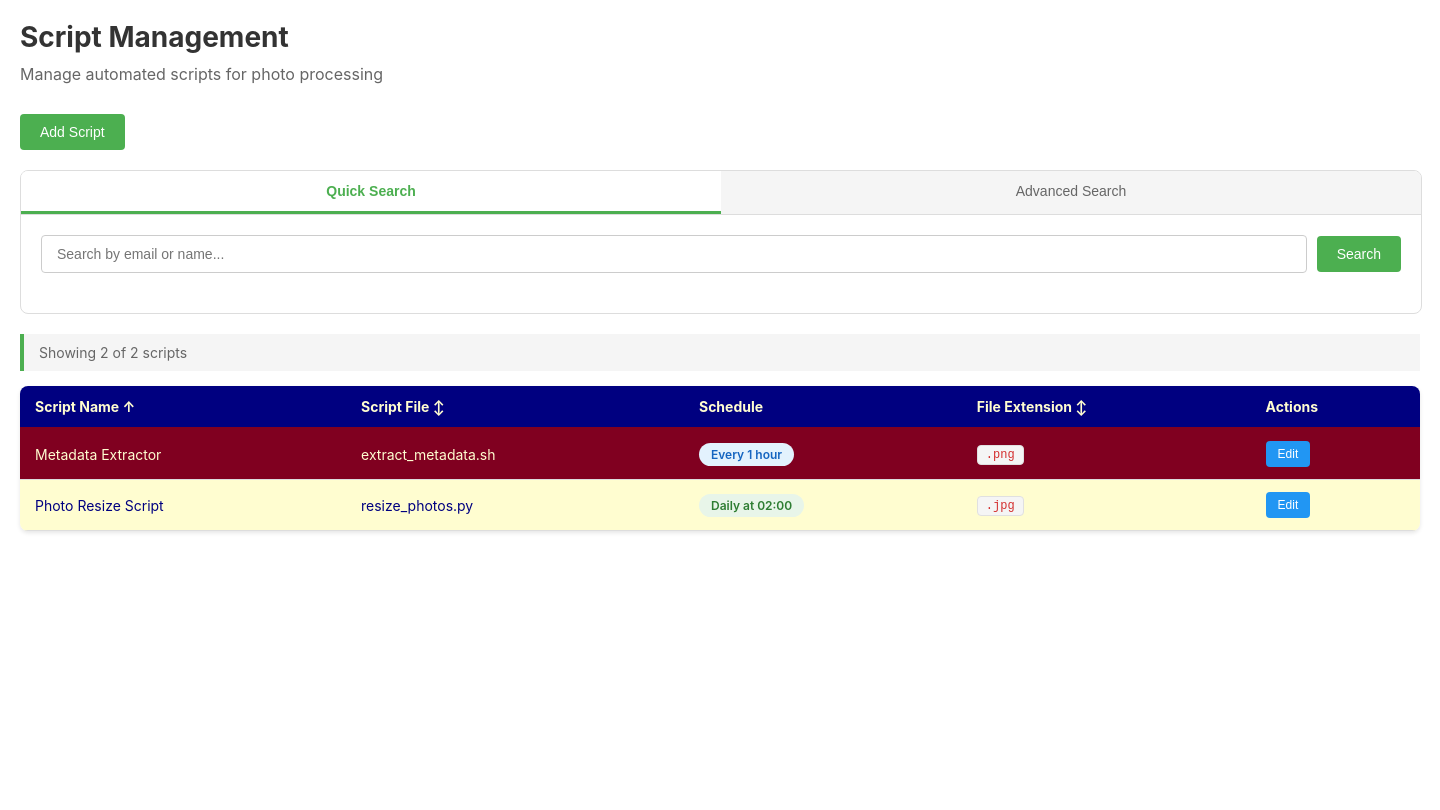
Scenario: Scripts Page › opens dialog when Add Script button clicked
Expected: the text "Photo Resize Script" is shown, [20,480,346,530]
Click the button "Add Script": coordinates (72, 132) [20,114,125,150]
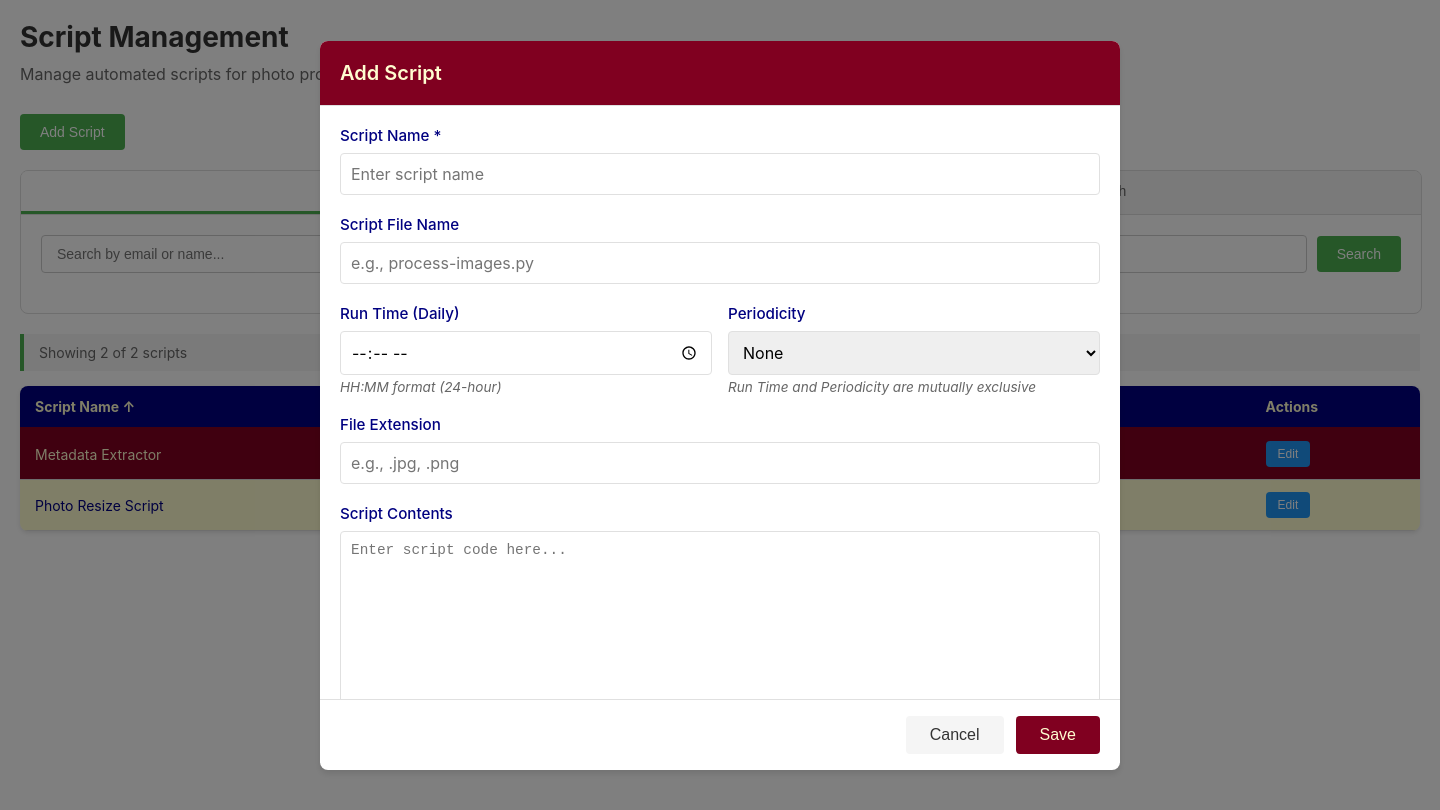
Now the element with test id "edit-script-dialog-overlay" is shown
